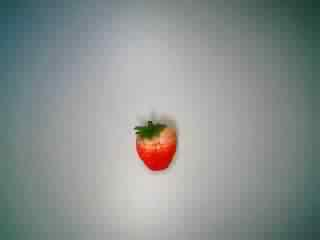strawberry: (123, 115, 191, 179)
